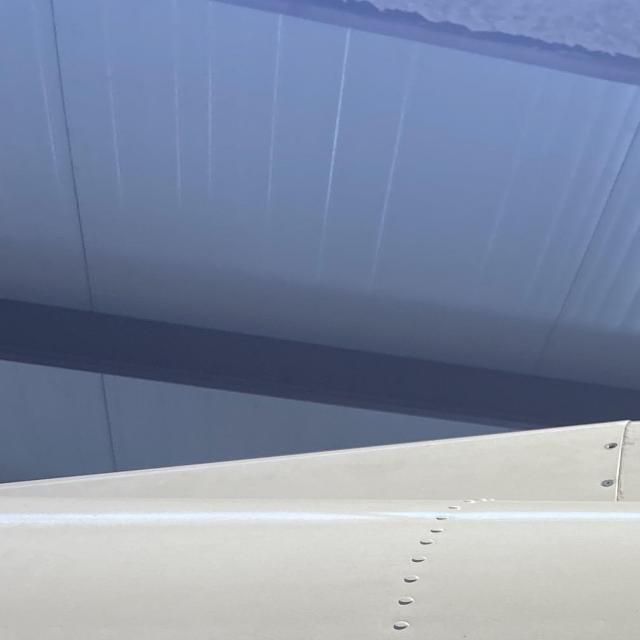Missing-head: (603, 441, 618, 450)
